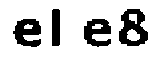8: (116, 5, 150, 51)
e: (10, 17, 47, 52), (79, 16, 114, 51)
l: (48, 6, 69, 52)
